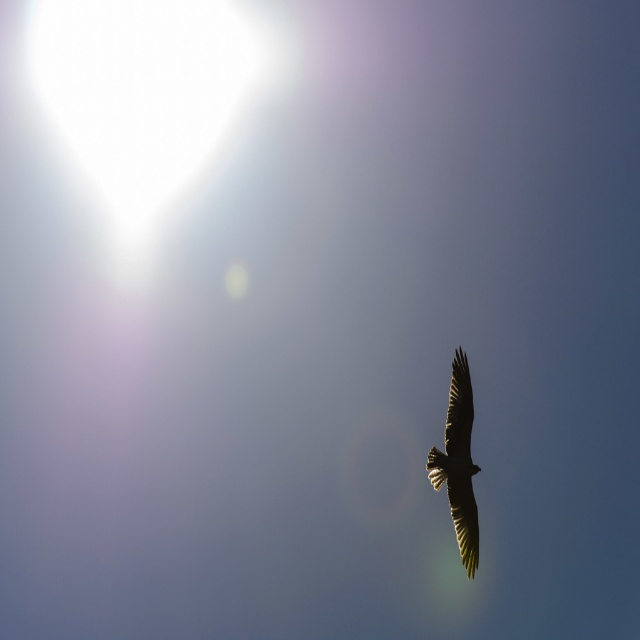Eagle: (424, 343, 484, 584)
